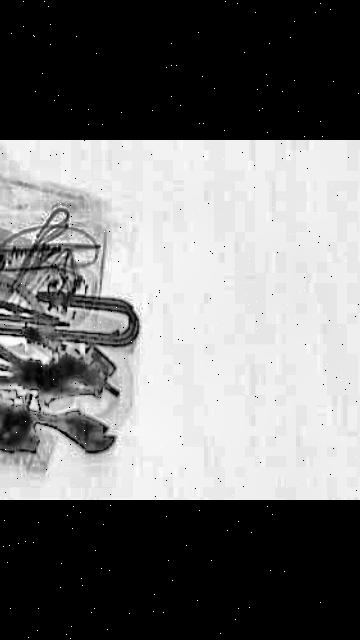Pliers: (0, 313, 113, 412)
Wrench: (0, 369, 129, 457)
